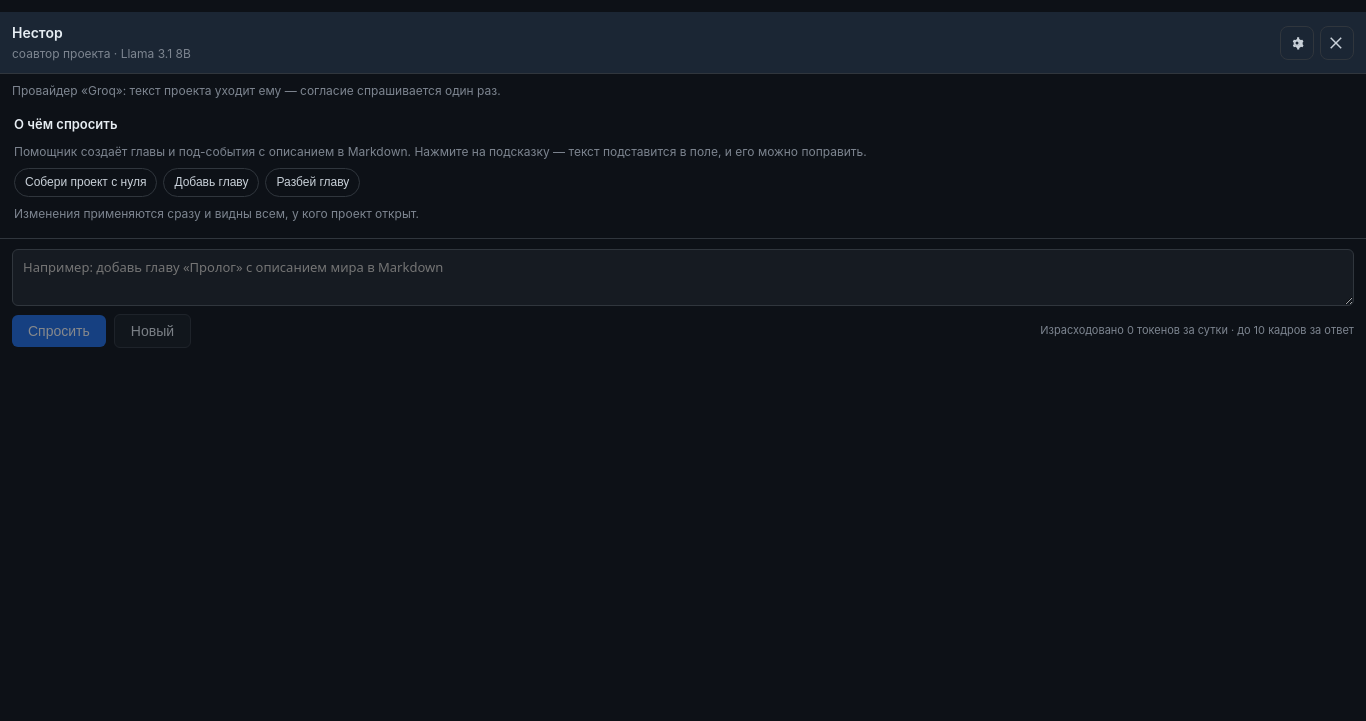
Test case: AssistantPanel › настройка — второй вид окна: провайдер, модель, ключ и возврат к переписке
Expected: the text box named "Сообщение помощнику" is shown, [12,249,1354,306]
Click the button named "Настройка помощника" at (1297, 42), box [1280,26,1314,60]
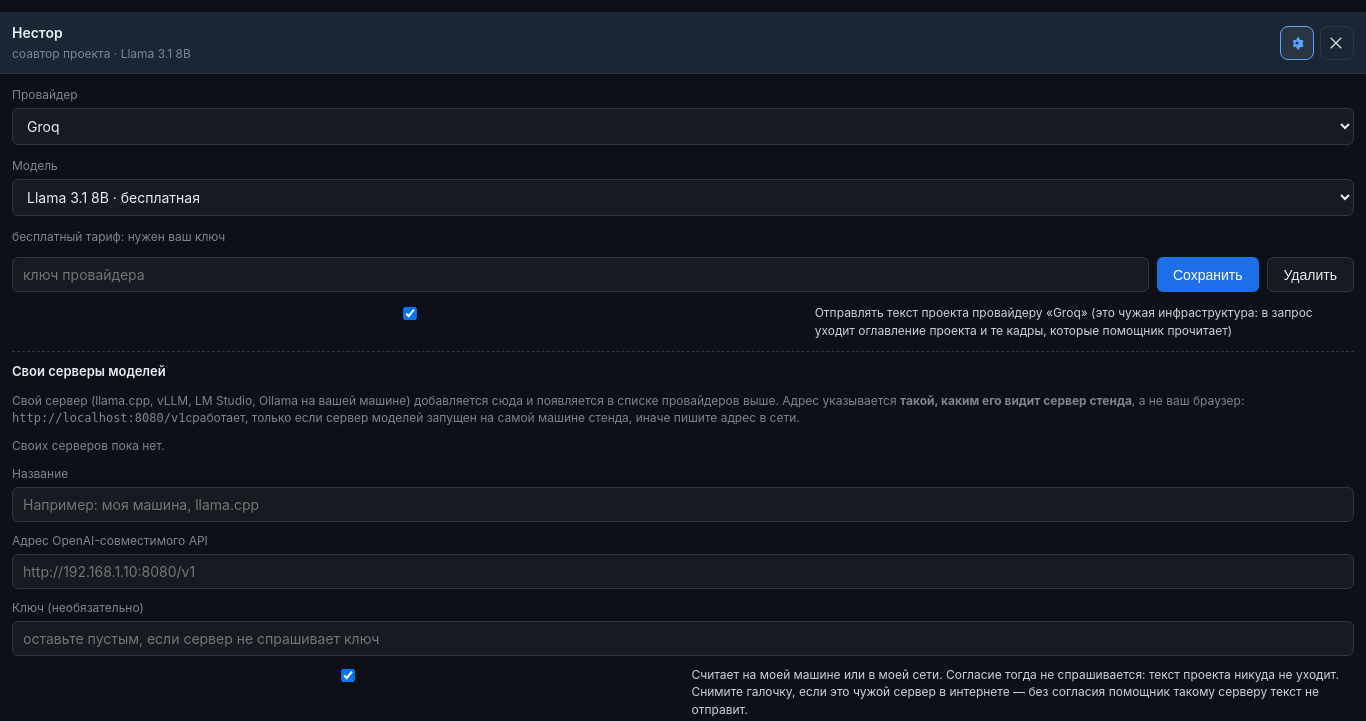
Result: the text "Провайдер" is shown at [12,87,78,102]
Result: the dropdown labelled "Модель" is shown at [12,179,1354,216]
Type "gsk_secret" into the password field labelled "ключ провайдера" at (580, 275), box [12,257,1149,292]
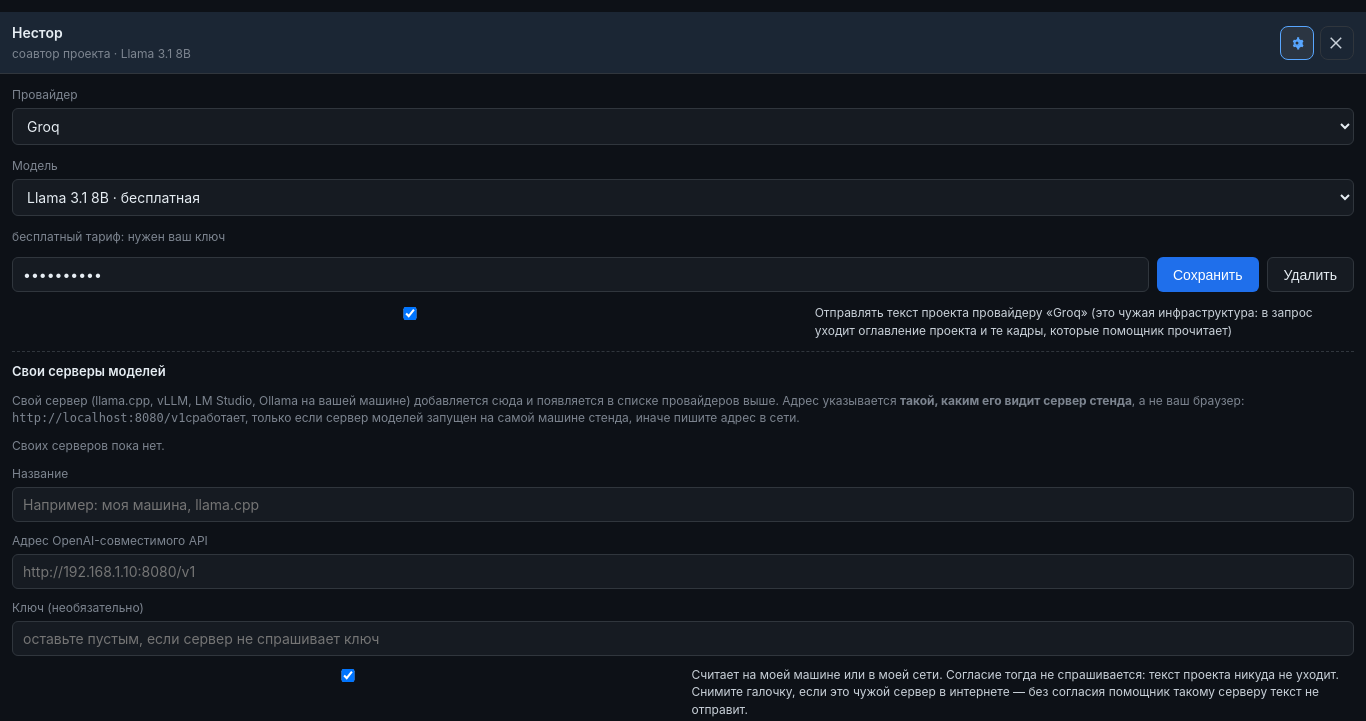
Click the button "Сохранить" at (1208, 275), box [1157,257,1259,292]
(page scrolled)
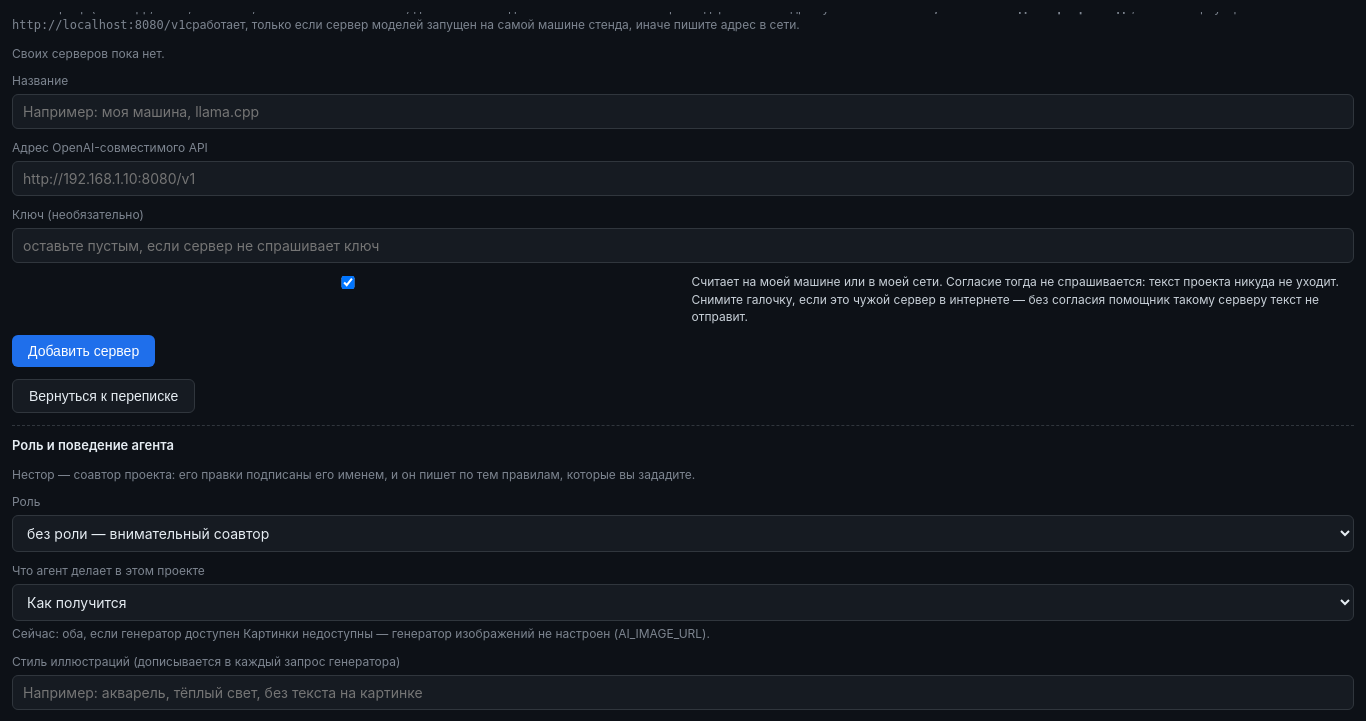
Click the button "Вернуться к переписке" at (104, 396), box [12,379,195,413]
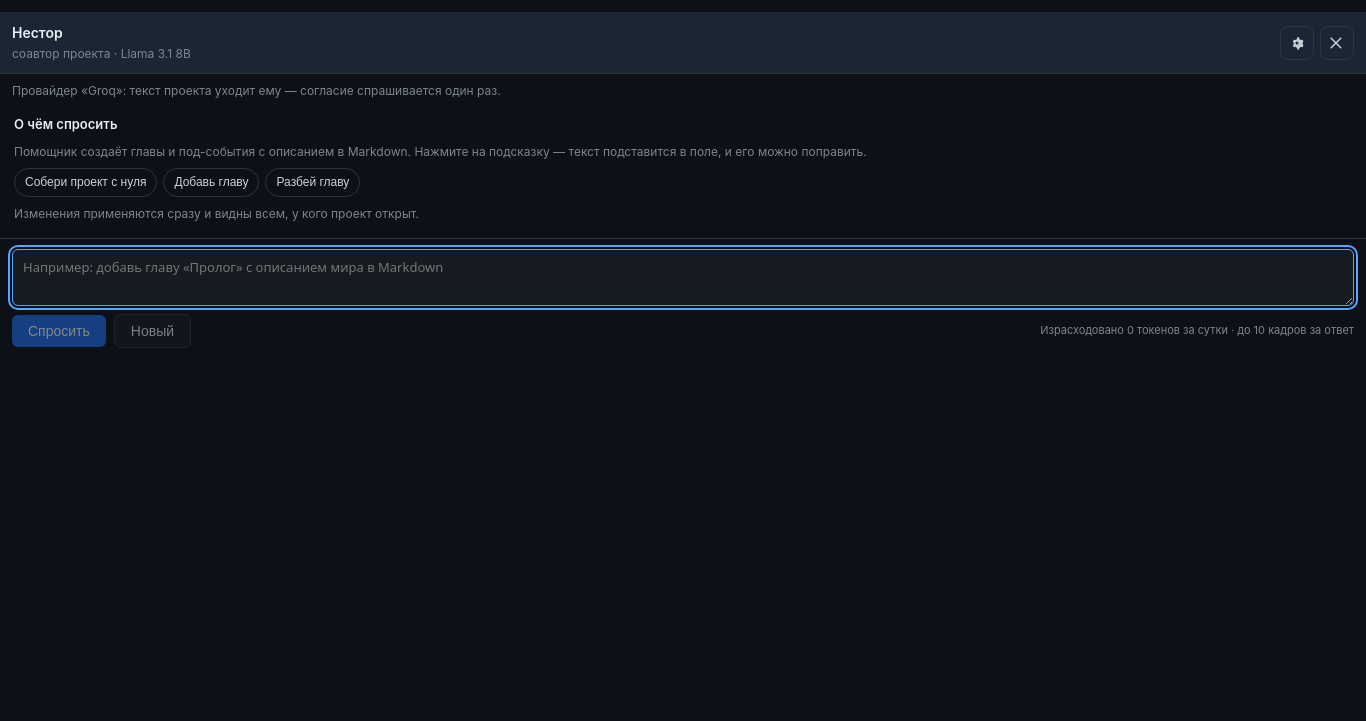
Result: the text box named "Сообщение помощнику" is shown at [12,249,1354,306]
